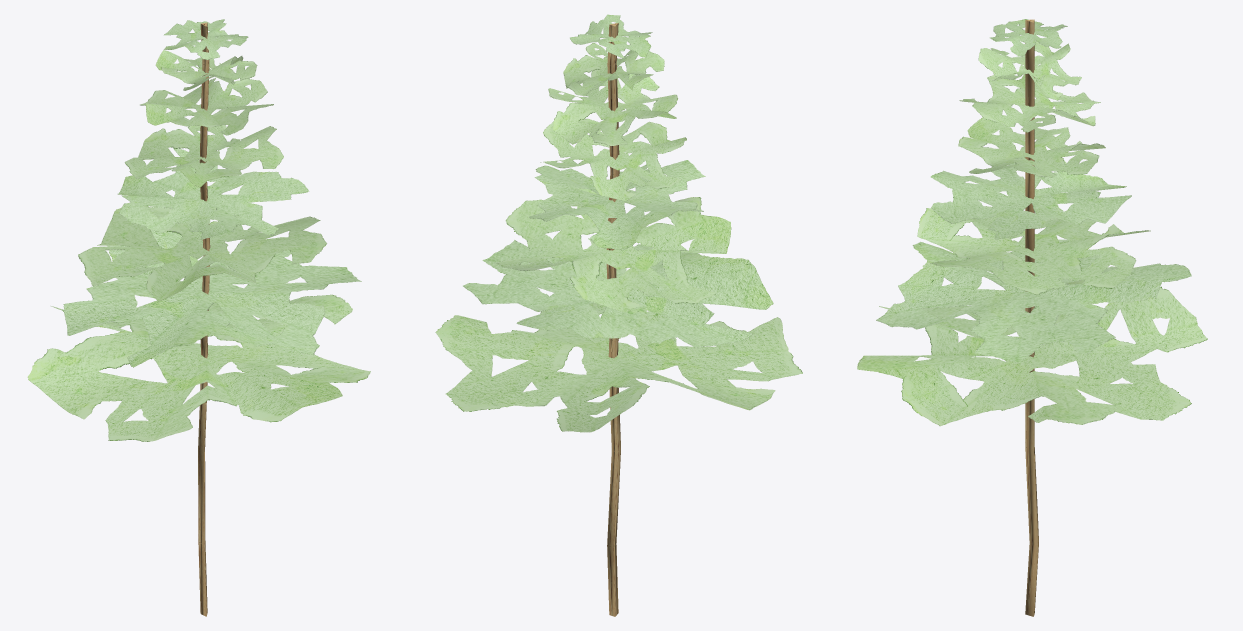
The model's file is Tree.fbx.
3 renders of one model, left to right at view 1: azimuth 30°, elevation 25°; view 2: azimuth 150°, elevation 25°; view 3: azimuth 270°, elevation 25°, orthographic.
Visible parts, largest first — view 1: pasted__pasted__pCylinder6 (×2), pasted__pCylinder6 (×2), pasted__pasted__pasted__pasted__pCylinder6 (×2), pasted__pasted__pasted__pCylinder6, pCylinder7, pCylinder6; view 2: pasted__pasted__pCylinder6 (×2), pasted__pCylinder6 (×2), pasted__pasted__pasted__pasted__pCylinder6 (×2), pasted__pasted__pasted__pCylinder6, pCylinder7, pCylinder6; view 3: pasted__pasted__pCylinder6 (×2), pasted__pCylinder6 (×2), pasted__pasted__pasted__pasted__pCylinder6 (×2), pCylinder7, pasted__pasted__pasted__pCylinder6, pCylinder6.
Part boxes in pixels (x1,y1,x2,y2): pasted__pasted__pCylinder6 (×2): (27, 50, 370, 441); pasted__pCylinder6 (×2): (63, 148, 361, 367); pasted__pasted__pasted__pasted__pCylinder6 (×2): (78, 115, 326, 301); pasted__pasted__pasted__pCylinder6: (140, 77, 273, 135); pCylinder7: (198, 22, 210, 616); pCylinder6: (164, 19, 248, 59); pasted__pasted__pCylinder6 (×2): (435, 40, 802, 432); pasted__pCylinder6 (×2): (463, 160, 773, 347); pasted__pasted__pasted__pasted__pCylinder6 (×2): (494, 118, 731, 312); pasted__pasted__pasted__pCylinder6: (548, 69, 677, 145); pCylinder7: (606, 23, 620, 616); pCylinder6: (570, 14, 652, 58); pasted__pasted__pCylinder6 (×2): (857, 41, 1207, 426); pasted__pCylinder6 (×2): (876, 157, 1191, 362); pasted__pasted__pasted__pasted__pCylinder6 (×2): (917, 117, 1150, 294); pCylinder7: (1025, 19, 1038, 616); pasted__pasted__pasted__pCylinder6: (959, 65, 1100, 132); pCylinder6: (989, 19, 1067, 56).
Bounding box in the file's own units: 160 × 278 × 168.
